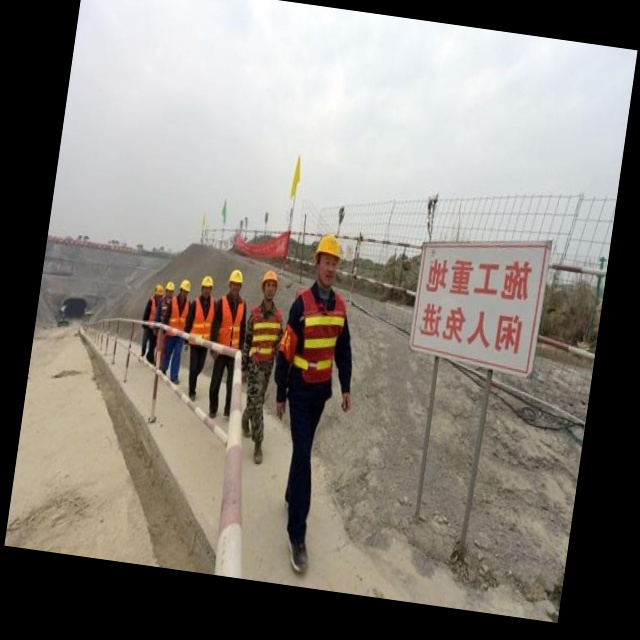Con_Chaleco: (284, 285, 348, 389), (245, 302, 282, 363), (216, 297, 244, 354), (188, 292, 218, 342), (165, 296, 190, 338)
